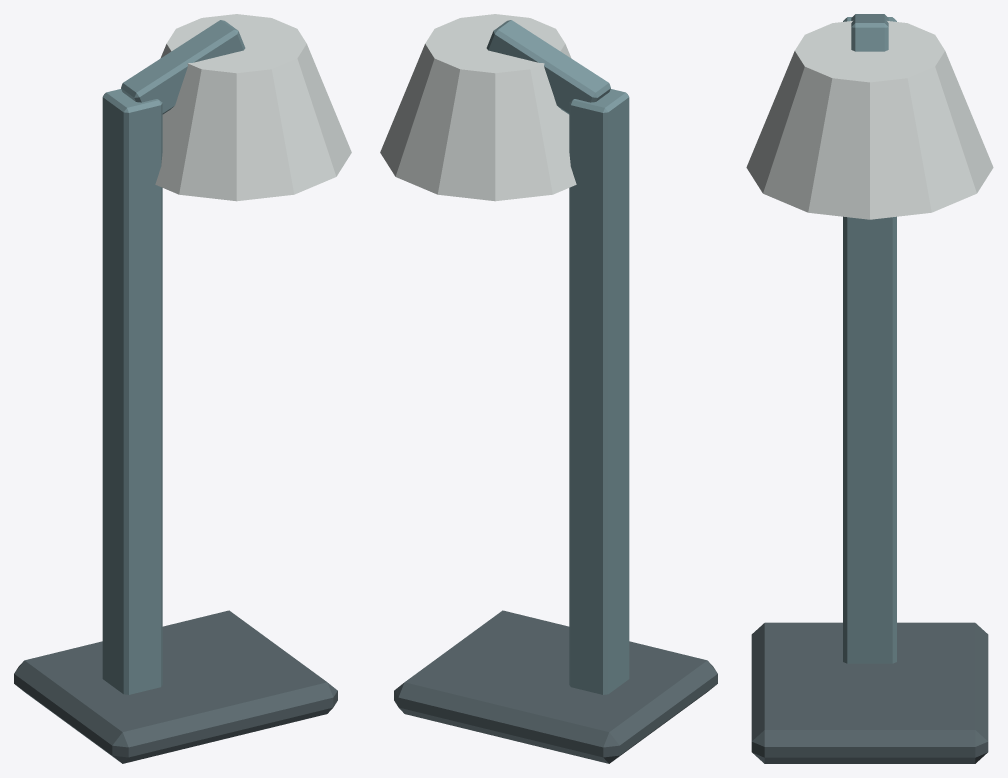
The picture shows the model from 3 angles, left to right: view 1: azimuth 30°, elevation 25°; view 2: azimuth 150°, elevation 25°; view 3: azimuth 270°, elevation 25°; orthographic projection. The views are drawn at different scales.
Visible parts, largest first — view 1: Fixed vertical lamp stem, Low chamfered lamp base, Thick downward open hood, Fixed raised lamp arm; view 2: Fixed vertical lamp stem, Low chamfered lamp base, Thick downward open hood, Fixed raised lamp arm; view 3: Thick downward open hood, Low chamfered lamp base, Fixed vertical lamp stem, Fixed raised lamp arm.
Part boxes in pixels (x1,y1,x2,y2): Fixed vertical lamp stem: (102,89,162,694); Low chamfered lamp base: (14,610,337,763); Thick downward open hood: (155,14,351,201); Fixed raised lamp arm: (121,20,245,114); Fixed vertical lamp stem: (569,89,629,694); Low chamfered lamp base: (394,610,717,763); Thick downward open hood: (380,14,576,201); Fixed raised lamp arm: (486,20,610,114); Thick downward open hood: (746,21,993,219); Low chamfered lamp base: (751,622,988,763); Fixed vertical lamp stem: (843,17,896,663); Fixed raised lamp arm: (851,14,888,51).
Bounding box in the file's own units: 0.315 × 0.7332 × 0.23.
